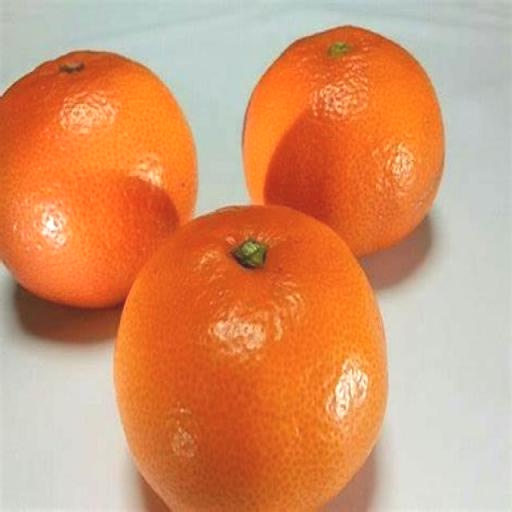fruit: (114, 207, 386, 511), (0, 52, 195, 306), (243, 27, 443, 255)
